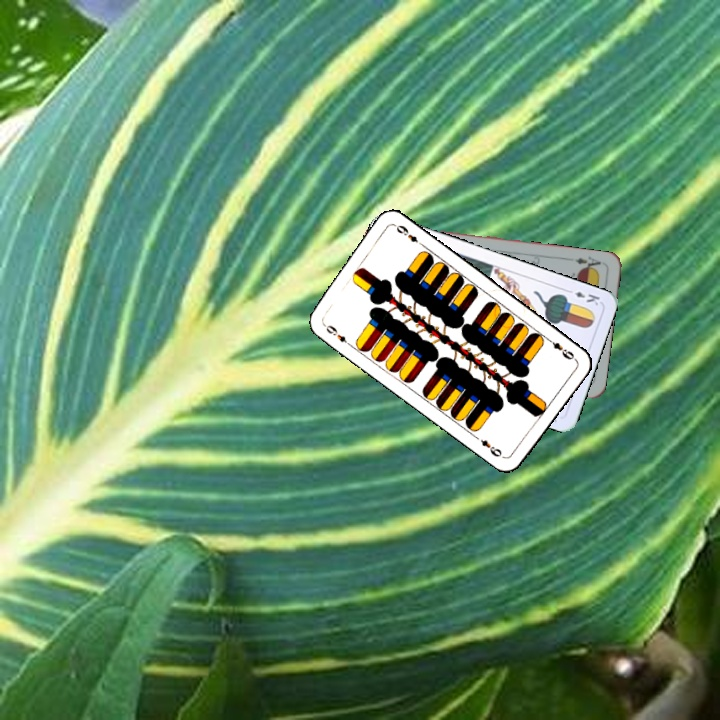E9: (319, 319, 354, 349), (543, 334, 578, 362)
EA: (565, 253, 603, 273)
EK: (562, 285, 602, 308)
